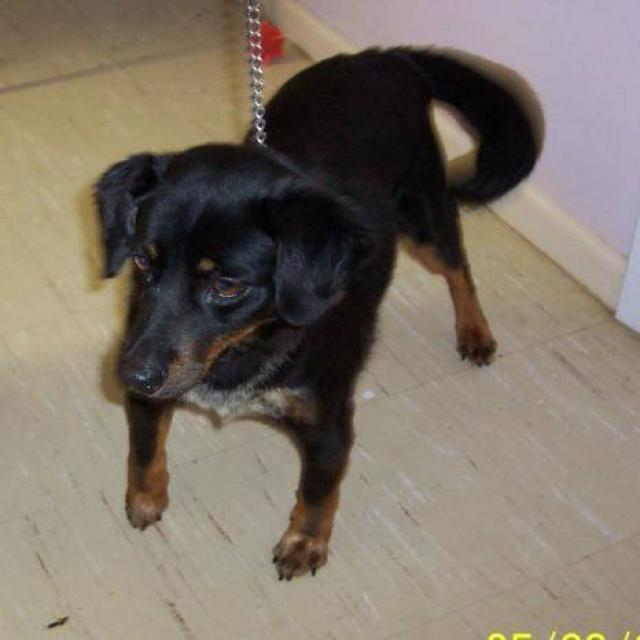dog: (91, 41, 544, 581)
